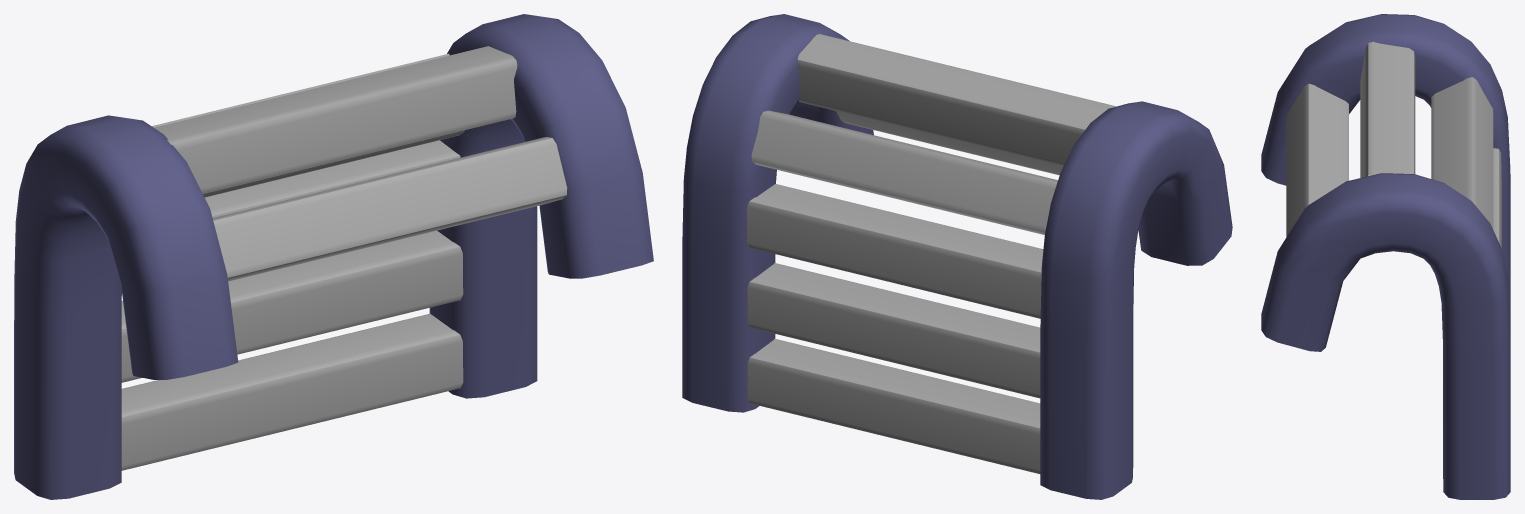
The model's file is Passage.fbx.
3 views of the same model, side by side, from view 1: azimuth 30°, elevation 25°; view 2: azimuth 150°, elevation 25°; view 3: azimuth 270°, elevation 25° (orthographic). The views are drawn at different scales.
Parts seen in each view (by area): view 1: Passage; view 2: Passage; view 3: Passage.
Part boxes in pixels (x1=…): Passage: x1=14, y1=14, x2=653, y2=499; Passage: x1=682, y1=14, x2=1232, y2=499; Passage: x1=1261, y1=14, x2=1510, y2=499.
Size of the model in its own units: 90.07 by 66.31 by 49.7.
2 materials, 1 textured.
